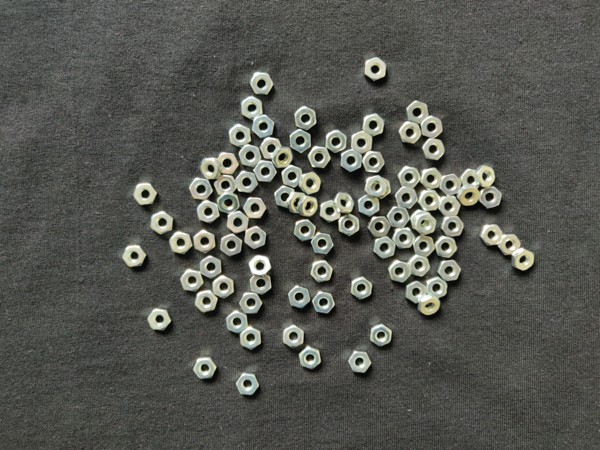nut: (122, 245, 147, 268), (133, 183, 158, 206), (150, 212, 174, 235), (169, 232, 193, 255), (193, 357, 217, 380), (197, 201, 220, 225), (228, 124, 251, 148), (251, 115, 274, 139), (311, 260, 334, 284), (299, 346, 322, 370), (365, 57, 387, 82), (367, 216, 392, 238), (437, 260, 462, 282), (181, 270, 204, 293), (237, 373, 260, 396), (249, 255, 272, 278), (236, 171, 259, 194), (239, 145, 262, 168), (373, 236, 396, 259), (399, 121, 422, 144), (406, 101, 429, 124), (422, 138, 445, 161), (512, 248, 535, 271), (189, 178, 213, 200), (250, 73, 274, 95), (295, 106, 317, 130), (283, 325, 305, 349), (363, 113, 385, 137), (365, 175, 387, 199), (434, 236, 458, 258), (474, 165, 496, 189), (480, 225, 504, 247), (148, 309, 171, 331), (200, 256, 222, 279), (195, 291, 218, 313), (200, 158, 223, 180), (221, 234, 243, 257), (227, 311, 249, 334), (241, 97, 263, 120), (260, 137, 282, 160), (254, 161, 277, 183), (299, 172, 321, 195), (308, 146, 331, 168), (294, 220, 317, 242), (311, 233, 334, 255), (289, 286, 311, 309), (370, 324, 392, 347), (349, 351, 372, 373), (388, 261, 411, 283), (387, 207, 410, 229), (395, 187, 418, 209), (398, 167, 421, 189), (418, 294, 441, 316), (414, 214, 437, 236), (421, 167, 443, 190), (440, 174, 463, 196), (480, 186, 502, 209), (498, 234, 521, 256), (239, 293, 263, 314), (290, 129, 311, 153), (320, 200, 341, 224), (341, 149, 362, 173), (351, 130, 372, 154), (227, 212, 249, 234), (218, 192, 240, 214), (217, 152, 239, 174), (245, 227, 267, 249), (271, 147, 293, 169), (313, 292, 335, 314), (363, 151, 385, 173), (358, 195, 380, 217), (421, 116, 443, 138), (408, 255, 430, 277), (194, 230, 215, 253), (213, 276, 234, 299), (241, 327, 262, 350), (244, 198, 267, 219), (281, 165, 302, 188), (326, 130, 347, 153), (339, 214, 360, 237), (351, 277, 372, 300), (418, 190, 441, 211), (441, 216, 464, 237), (457, 185, 480, 206), (333, 193, 355, 214), (393, 228, 415, 249), (413, 236, 435, 257), (427, 277, 448, 299), (439, 196, 461, 217), (214, 175, 237, 195), (275, 186, 295, 209), (406, 281, 426, 304), (250, 276, 272, 296), (287, 192, 307, 214), (299, 196, 318, 217), (372, 179, 391, 200), (411, 210, 431, 229), (461, 170, 480, 189)
